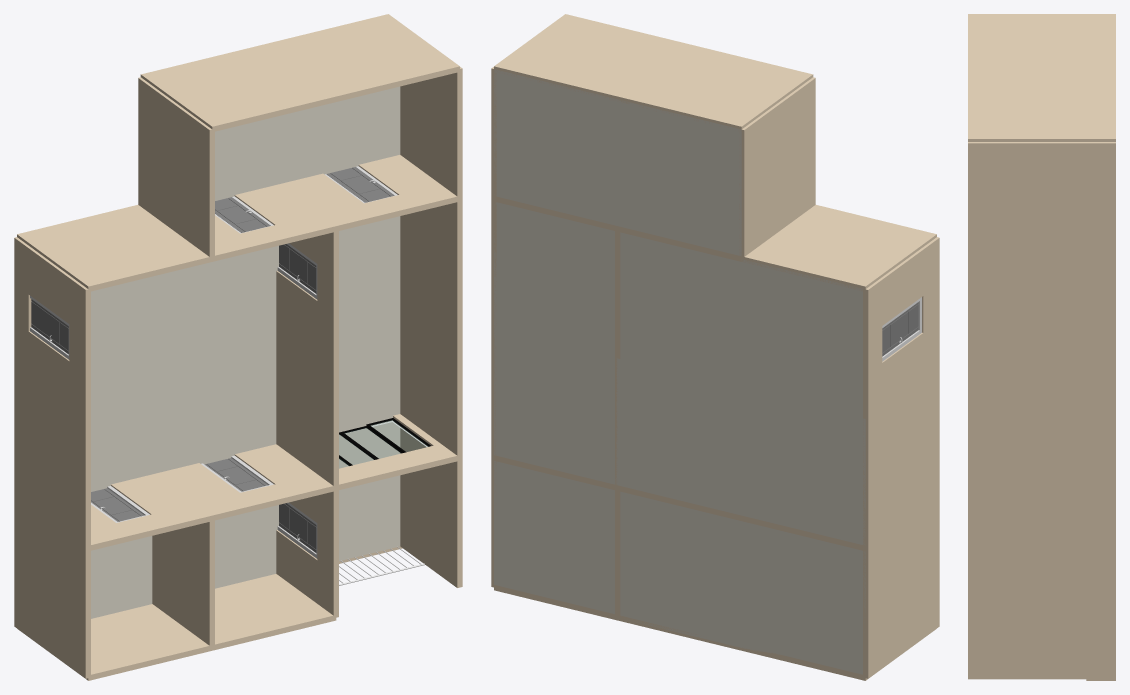
Rendered from 2_elaina.gltf.
3 renders of one model, left to right at view 1: azimuth 30°, elevation 25°; view 2: azimuth 150°, elevation 25°; view 3: azimuth 270°, elevation 25°, orthographic. The views are drawn at different scales.
Parts seen in each view (by area): view 1: wall (×14), floor (×11), SIP (×8), Door (×7), WindowCasement; view 2: floor (×11), wall (×9), SIP (×9), Door; view 3: wall (×6).
Boxes of the visible parts, x1,y1,x2,y2 form: wall (×14): [14, 14, 462, 680]; floor (×11): [91, 86, 400, 618]; SIP (×8): [14, 155, 459, 617]; Door (×7): [31, 167, 394, 552]; WindowCasement: [339, 418, 430, 465]; floor (×11): [494, 69, 865, 674]; wall (×9): [491, 14, 939, 680]; SIP (×9): [494, 196, 939, 620]; Door: [882, 302, 918, 356]; wall (×6): [968, 14, 1115, 679].
Bounding box in the file's own units: 10.65 × 14.15 × 3.5.
